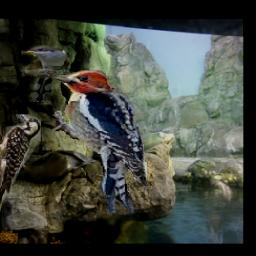Cuckoo: (21, 46, 69, 103)
Woodpecker: (44, 70, 148, 215), (0, 114, 41, 215)
